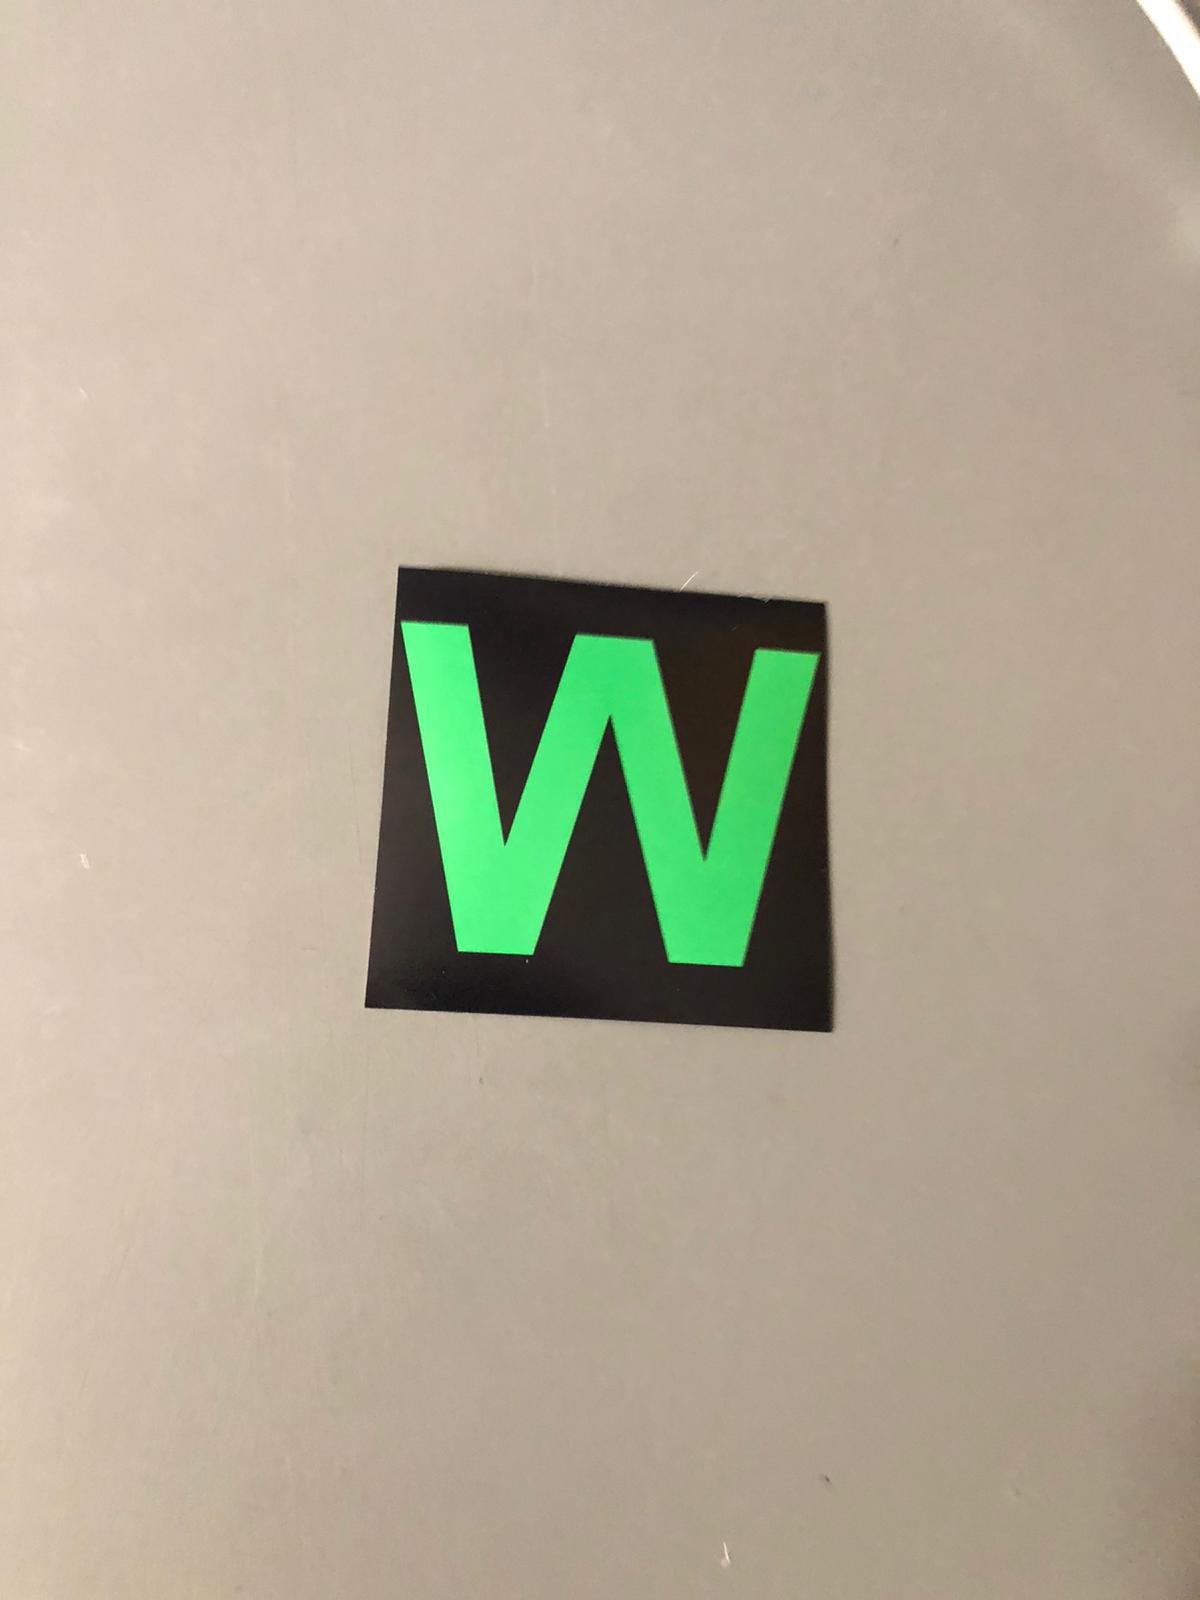W: (389, 577, 852, 1026)
